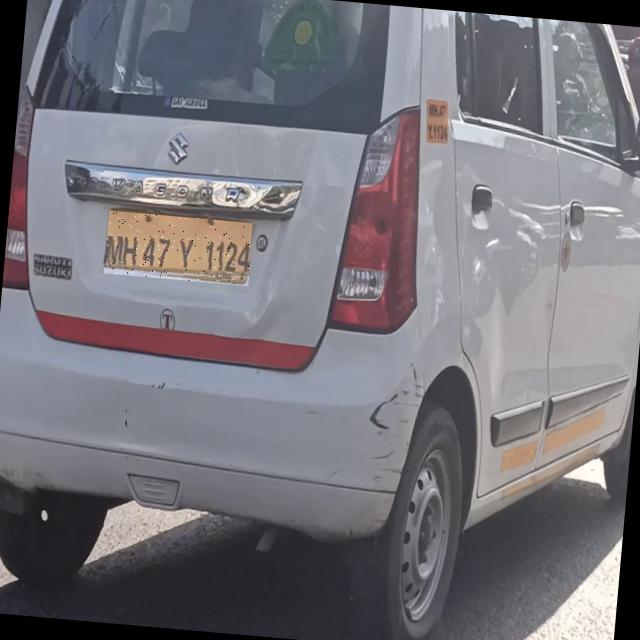Plate: (104, 212, 254, 287)
